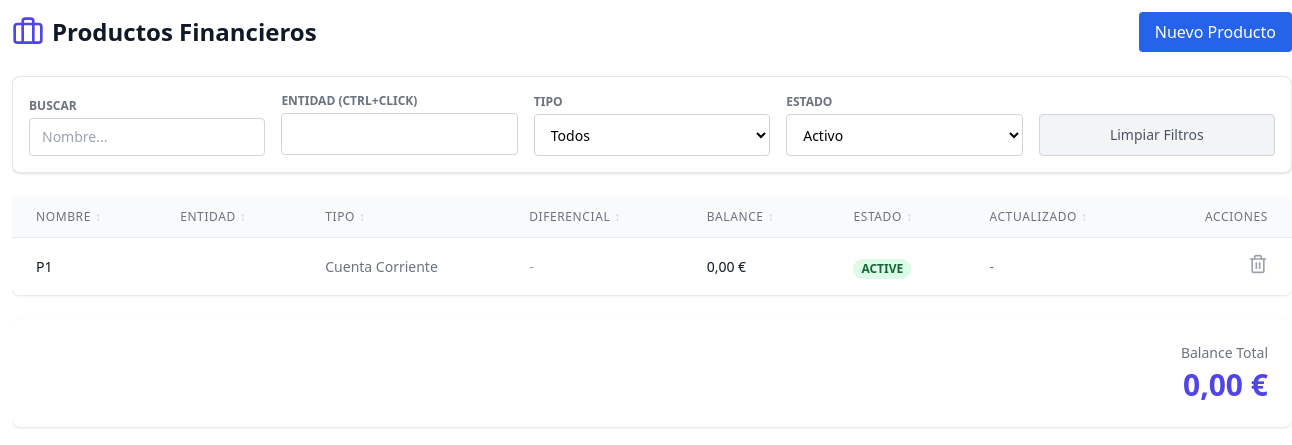
ProductsPage › renders sort icons correctly
The image size is (1292, 445).
Expected: the text "↕" next to "Nombre" is shown, [95, 208, 102, 225]
// Click 1: Asc (Up arrow)
Click the column heading "Nombre ↕" at point(84, 217), box [12, 197, 156, 238]
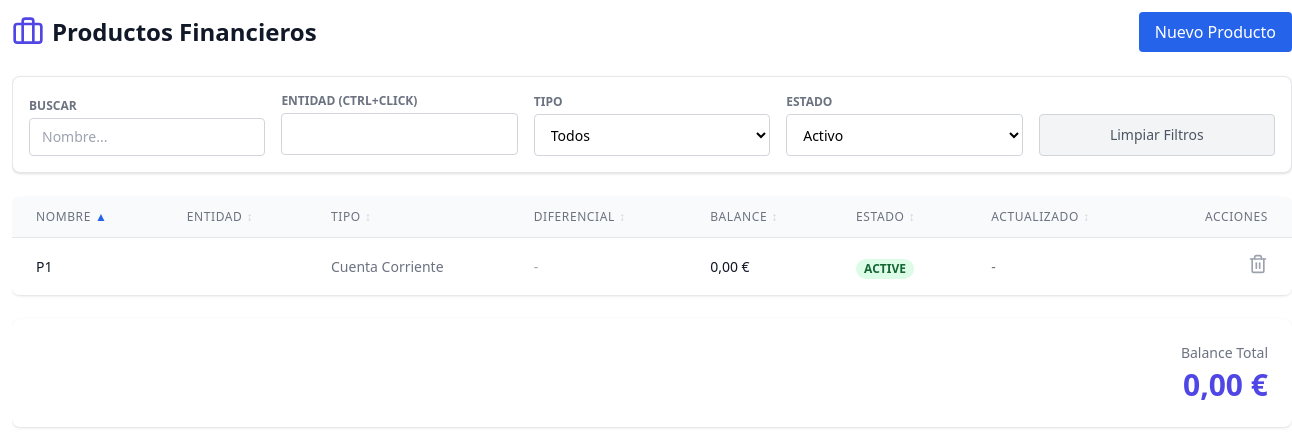
Now the text "▲" is shown, box [95, 209, 107, 225]
// Click 2: Desc (Down arrow)
Click the column heading "Nombre ▲" at point(87, 217), box [12, 197, 163, 238]
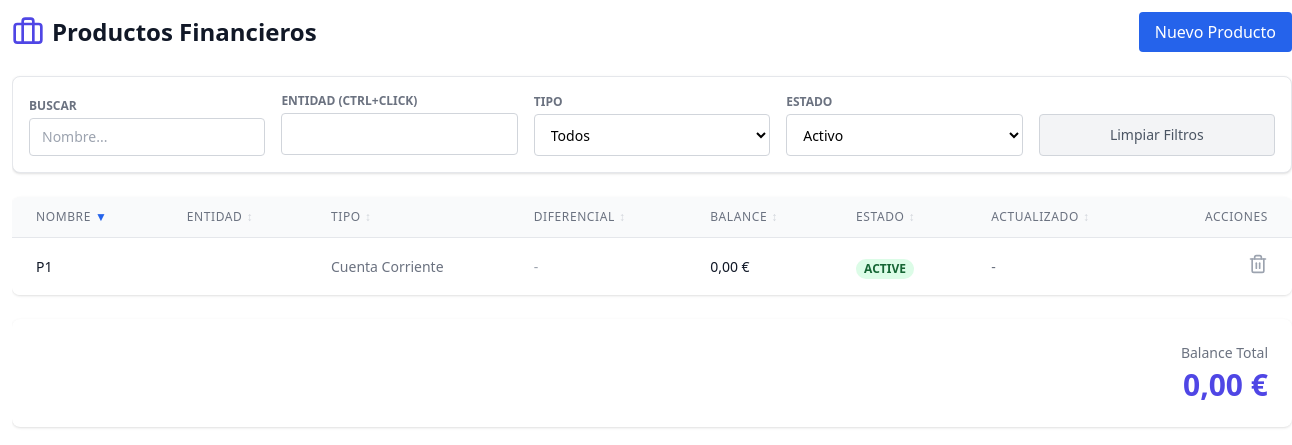
Now the text "▼" is shown, box [95, 209, 107, 225]
